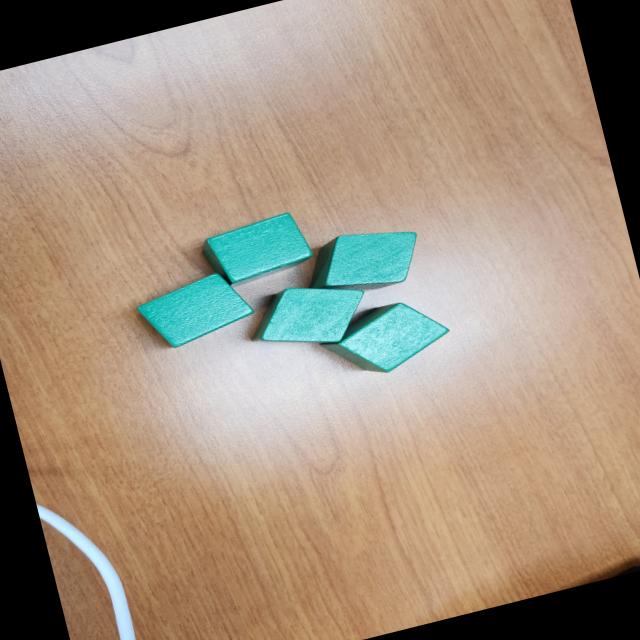green: (320, 289, 458, 386), (240, 270, 372, 362), (133, 264, 259, 354), (299, 217, 426, 304), (196, 208, 314, 290)
